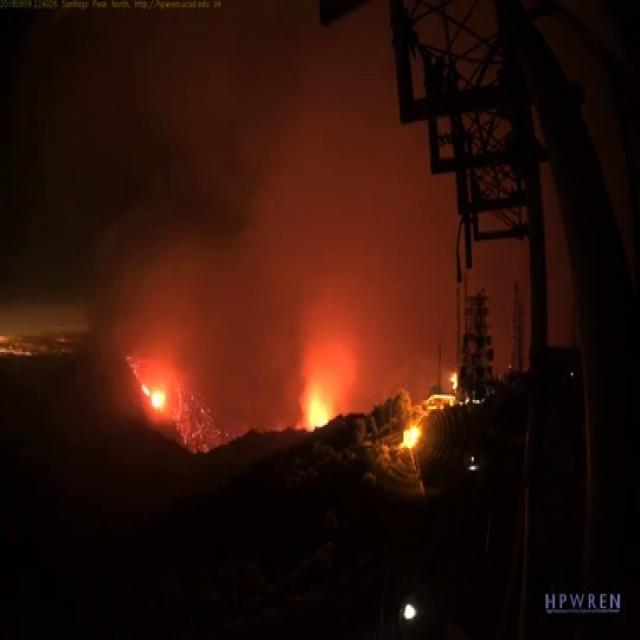Fire: (300, 373, 330, 430), (132, 377, 172, 417)
Smoke: (292, 157, 472, 367)
